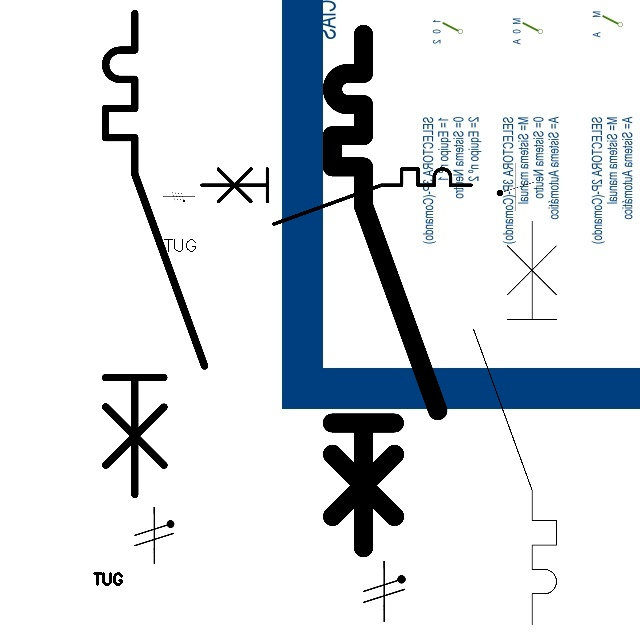interruptor_termomagnetico: (319, 21, 451, 561), (93, 1, 216, 506), (463, 211, 567, 635), (194, 162, 477, 231)
